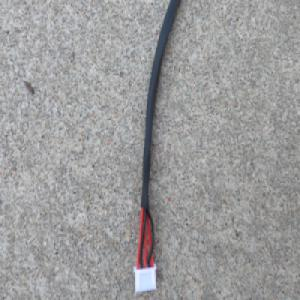Wire: (132, 0, 186, 292)
